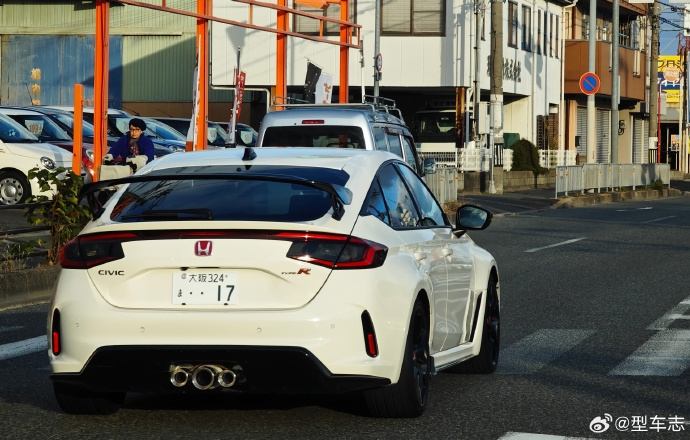other: (43, 147, 510, 418)
